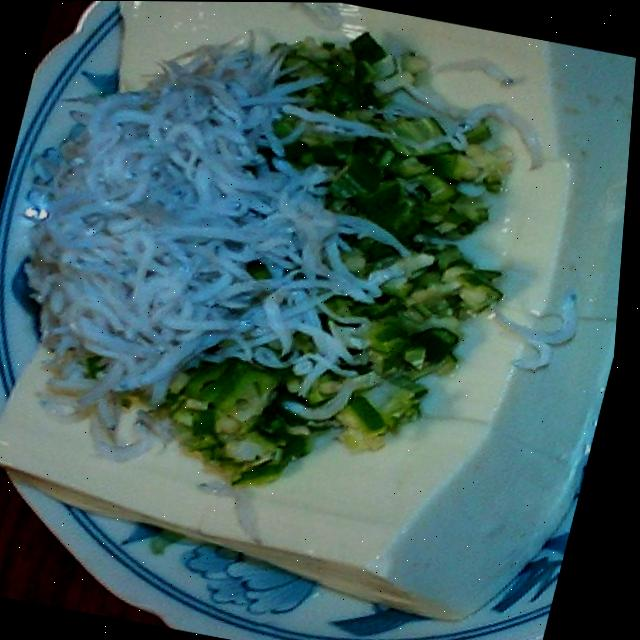豆腐料理: (0, 0, 640, 638)
